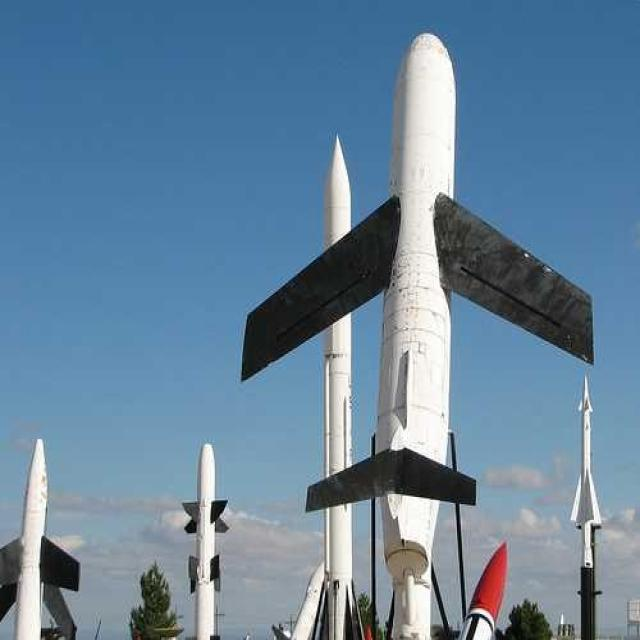missile: (314, 128, 363, 640), (0, 433, 72, 640), (184, 440, 229, 640), (562, 371, 604, 568)
